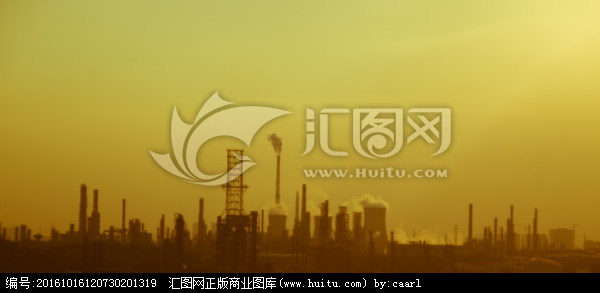dust: (345, 183, 392, 211), (265, 130, 288, 157)
